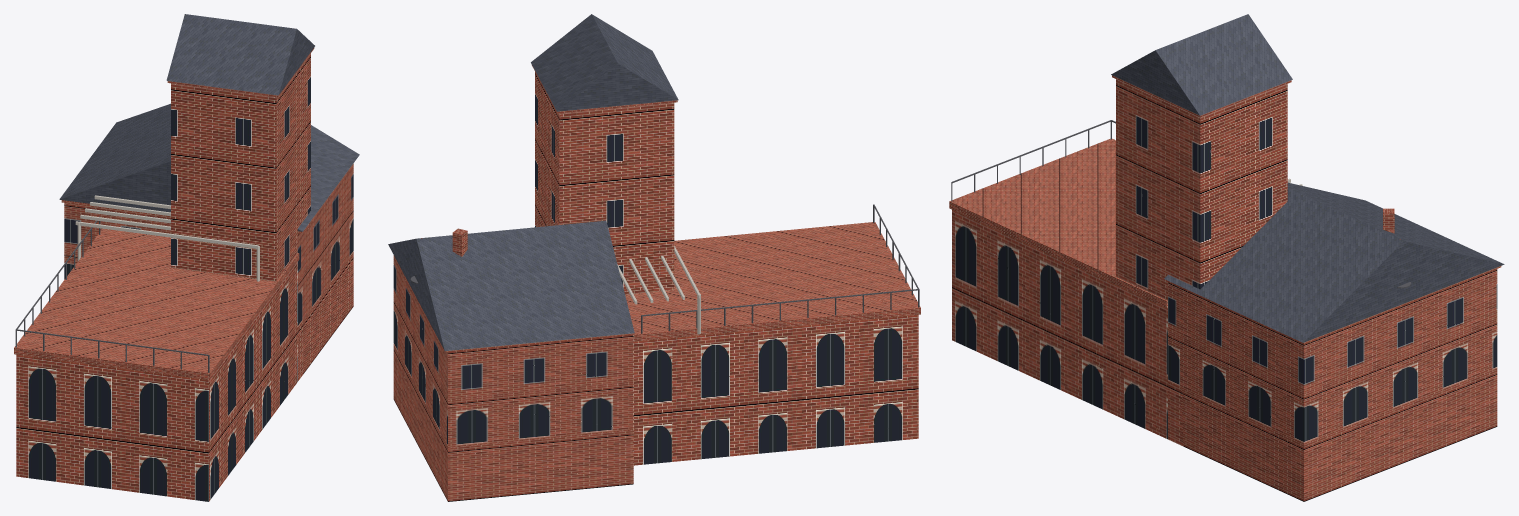
The model's file is engine_house.glb.
The picture shows the model from 3 angles, left to right: view 1: azimuth 30°, elevation 25°; view 2: azimuth 150°, elevation 25°; view 3: azimuth 270°, elevation 25°; orthographic projection. The views are drawn at different scales.
Parts seen in each view (by area): view 1: BlockGround, BlockPlinth, Tower, BlockRoof, BlockFirst, PergolaBeam, Lunette; view 2: BlockGround, BlockPlinth, BlockRoof, Tower, BlockFirst, Lunette, PergolaBeam; view 3: BlockGround, BlockRoof, BlockPlinth, Tower, BlockFirst, Lunette.
Boxes of the visible parts, x1,y1,x2,y2 form: BlockGround: (16,207,353,501); BlockPlinth: (14,48,353,380); Tower: (171,53,310,381); BlockRoof: (59,14,359,231); BlockFirst: (64,163,353,281); PergolaBeam: (75,195,259,281); Lunette: (15,216,209,372); BlockGround: (393,298,918,465); BlockPlinth: (393,65,920,501); BlockRoof: (388,14,678,350); Tower: (535,72,674,294); BlockFirst: (393,255,633,400); Lunette: (410,204,919,333); PergolaBeam: (617,245,700,334); BlockGround: (952,210,1497,444); BlockRoof: (1111,14,1504,342); BlockPlinth: (949,75,1501,501); Tower: (1116,79,1287,446); BlockFirst: (1168,269,1497,394); Lunette: (951,120,1411,288).
Size of the model in its own units: 28.2 by 22.25 by 29.03.
7 materials, 5 textured.
